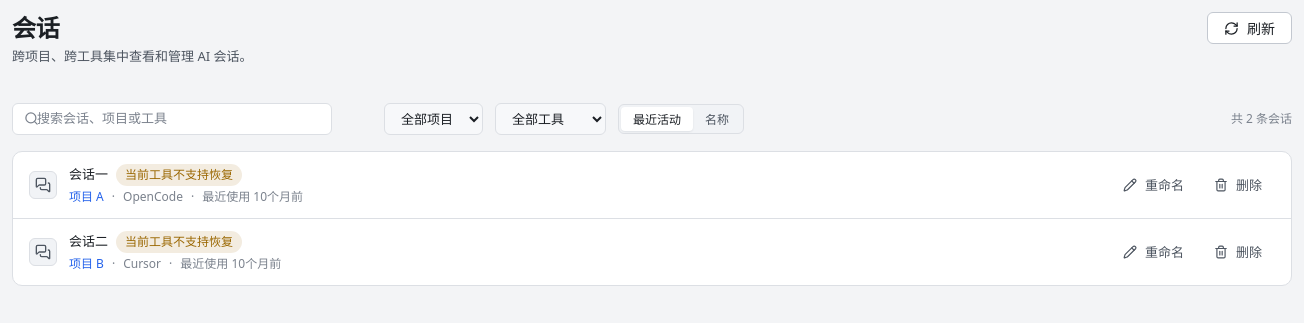
Test: 会话中心 › 按项目与工具筛选会话
Check: the text "会话一" is shown, box top-left (69, 165), bottom-right (108, 184)
Select "项目 B" in the dropdown named "按项目筛选": (434, 119) top-left (384, 103), bottom-right (483, 135)
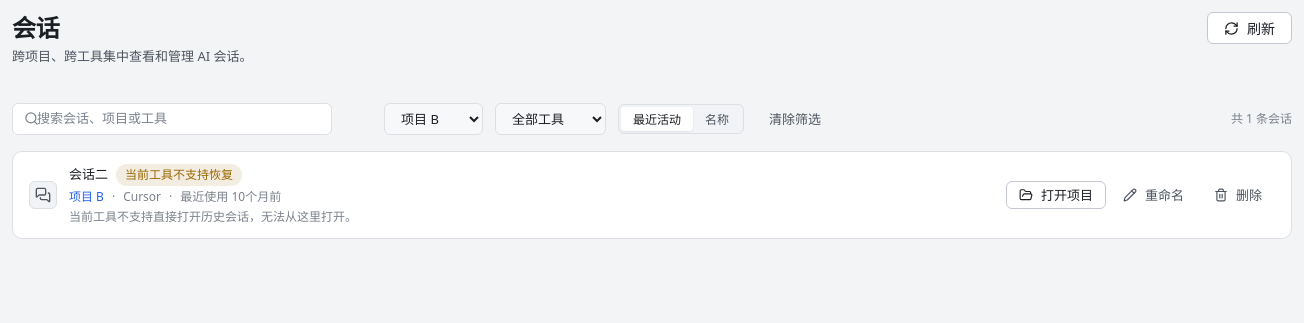
Check: the text "会话二" is shown, box top-left (69, 165), bottom-right (108, 184)
Check: the text "会话一" is gone
Select "全部项目" in the dropdown named "按项目筛选": (434, 119) top-left (384, 103), bottom-right (483, 135)
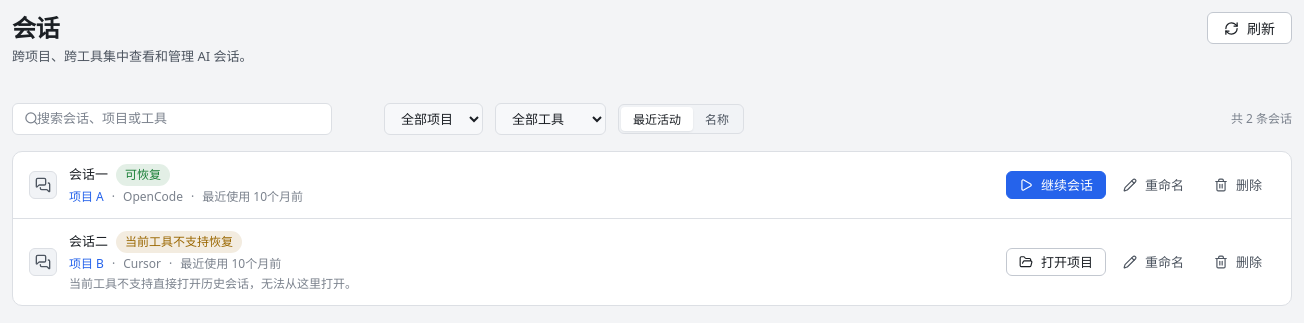
Select "OpenCode" in the dropdown named "按工具筛选": (550, 119) top-left (495, 103), bottom-right (606, 135)
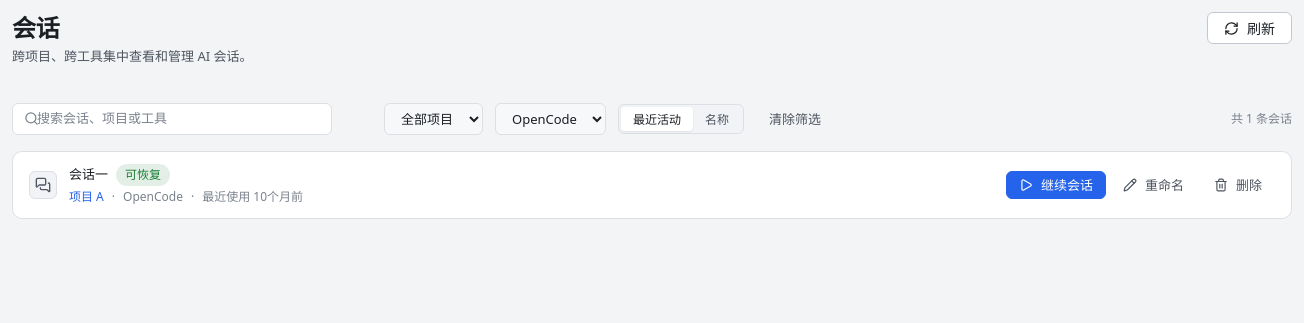
Check: the text "会话一" is shown, box top-left (69, 165), bottom-right (108, 184)
Check: the text "会话二" is gone
